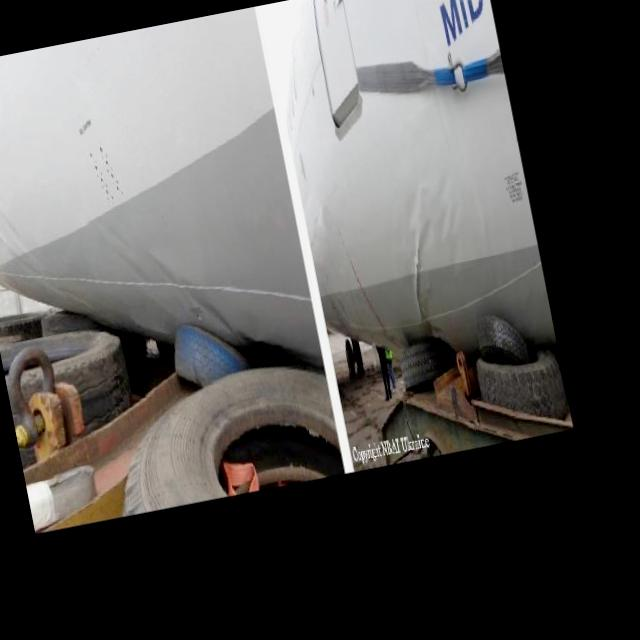dent: (81, 179, 246, 376), (382, 160, 488, 356)
